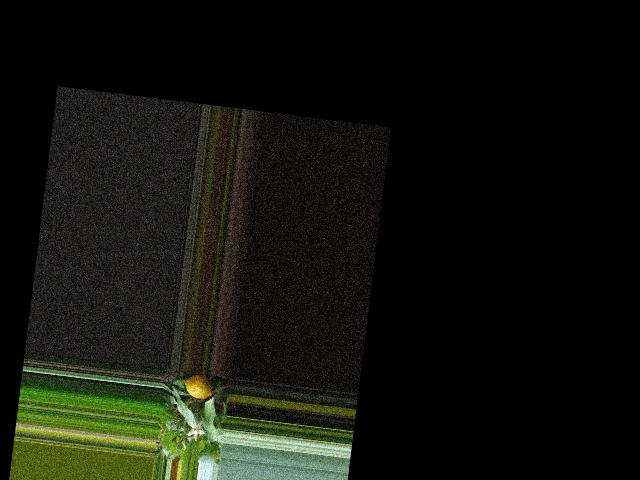lemon: (182, 372, 216, 403)
